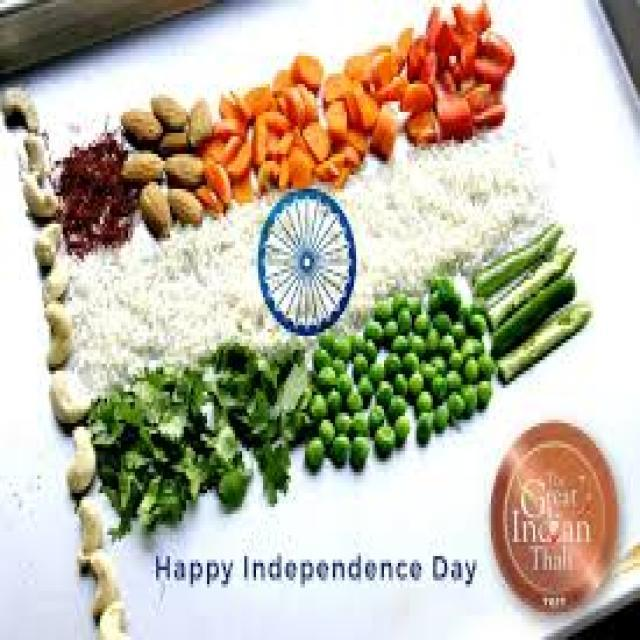curd: (251, 189, 362, 335)
pickle: (47, 133, 139, 259)
rice: (90, 225, 247, 403)
sambar-rasam: (495, 425, 619, 612)
sweet: (496, 429, 614, 611)
